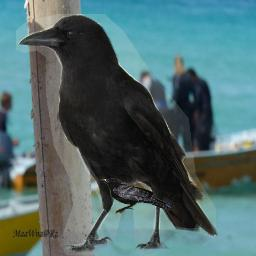Crow: (16, 14, 218, 255), (100, 178, 171, 214)
